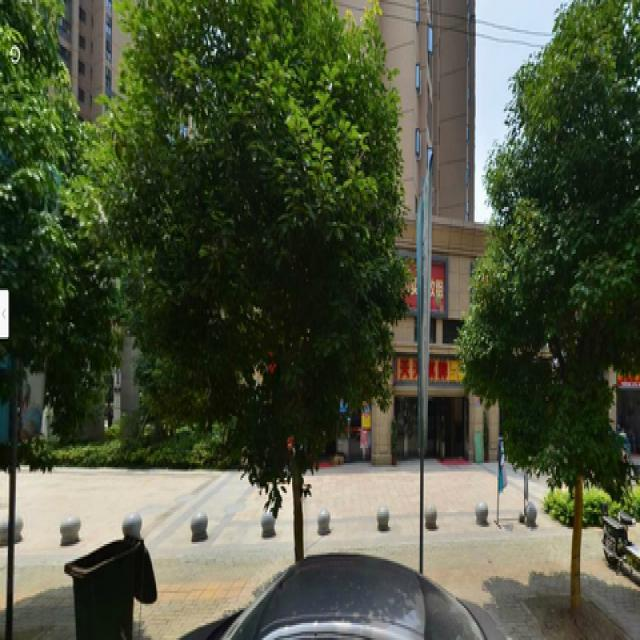cinn: (138, 17, 354, 546), (503, 15, 633, 593)
